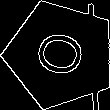O_E: (28, 26, 93, 83)
